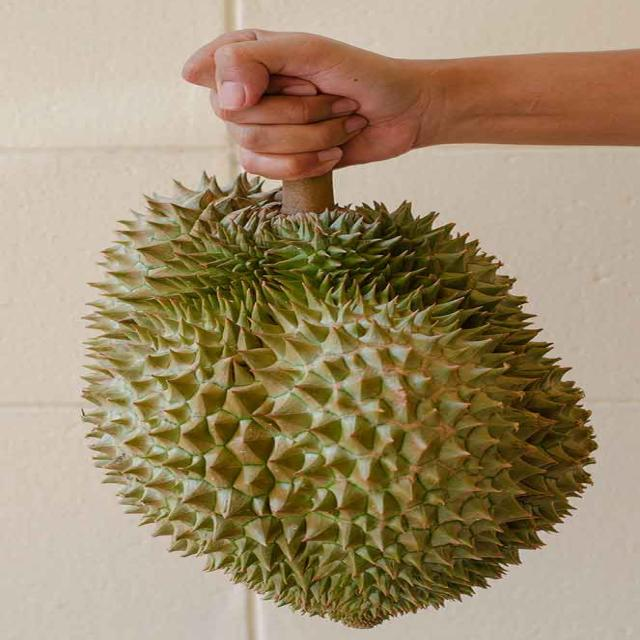mature: (74, 180, 606, 627)
